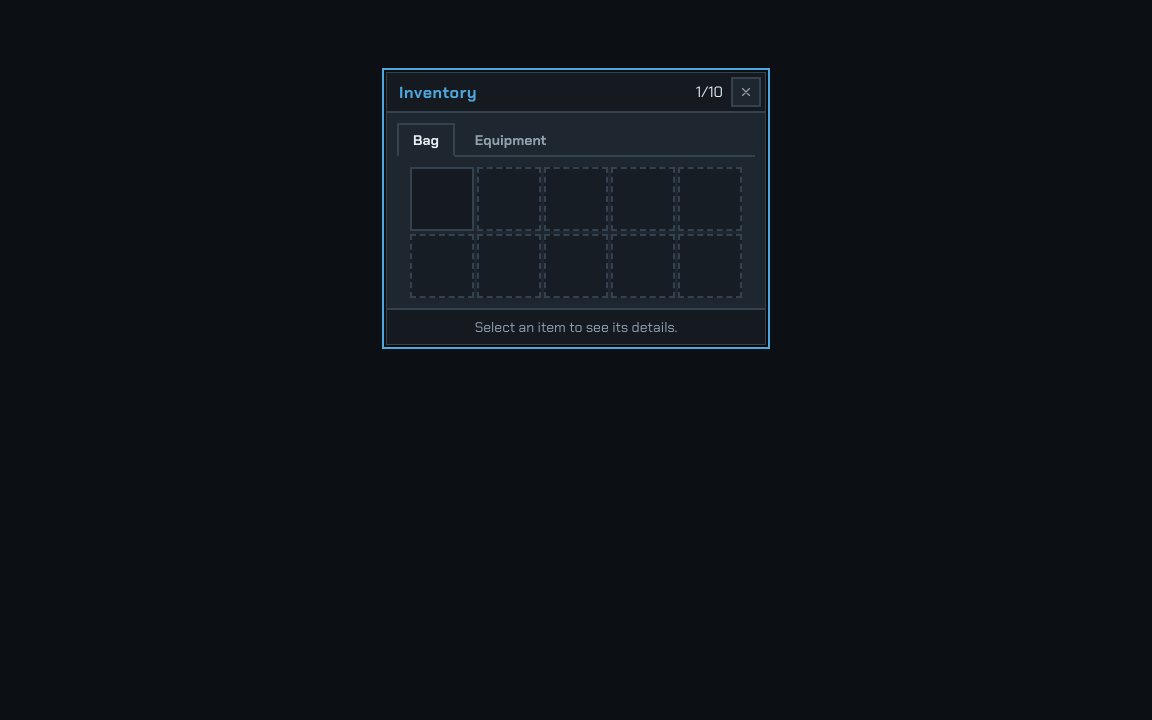
Test: InventoryPanel › asks before dropping the only one, and takes no for an answer
The image size is (1152, 720).
Step 1. Click the button named "Axe" → (442, 199), box [410,167,474,231]
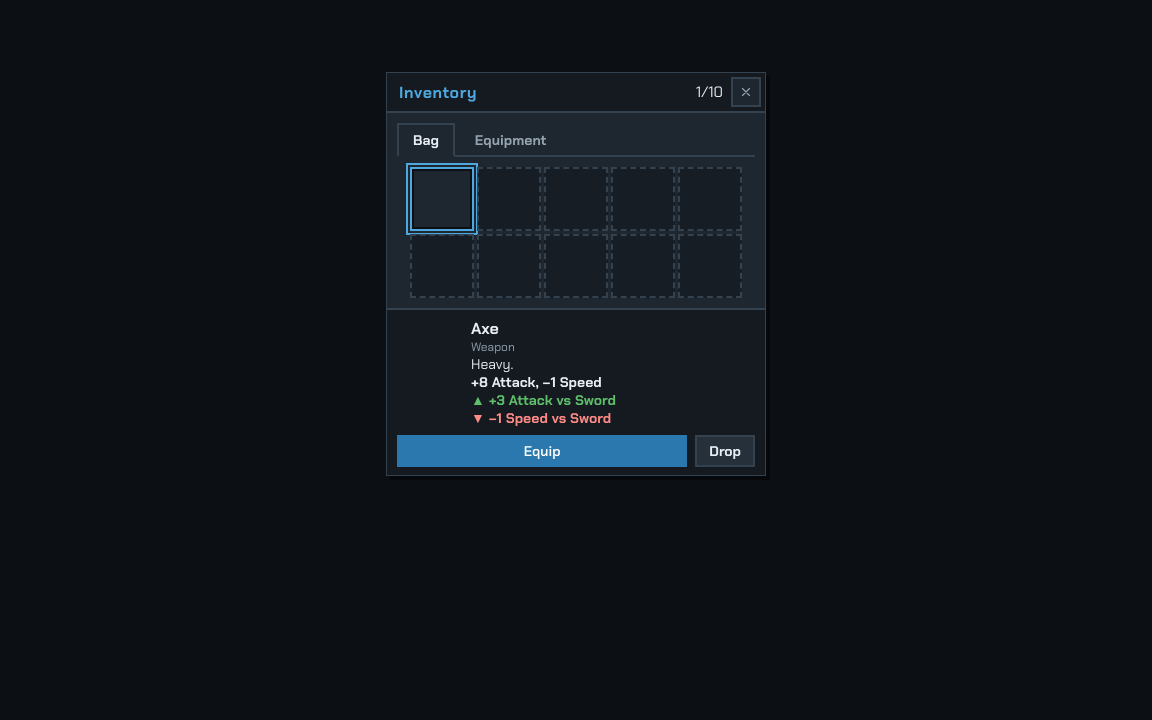
Step 2. Click the button "Drop" → (725, 451), box [695,435,755,467]
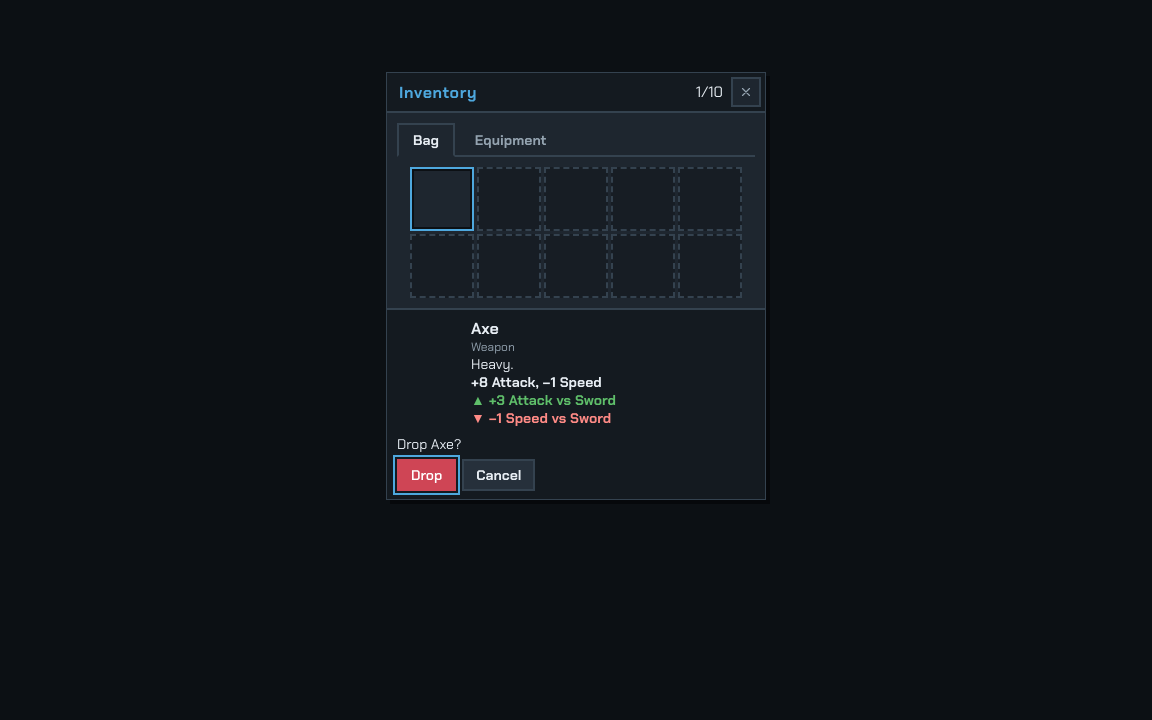
Expected: the text "Drop Axe?" is shown, [397,435,461,453]
Step 3. Click the button "Cancel" → (499, 475), box [462,459,536,491]
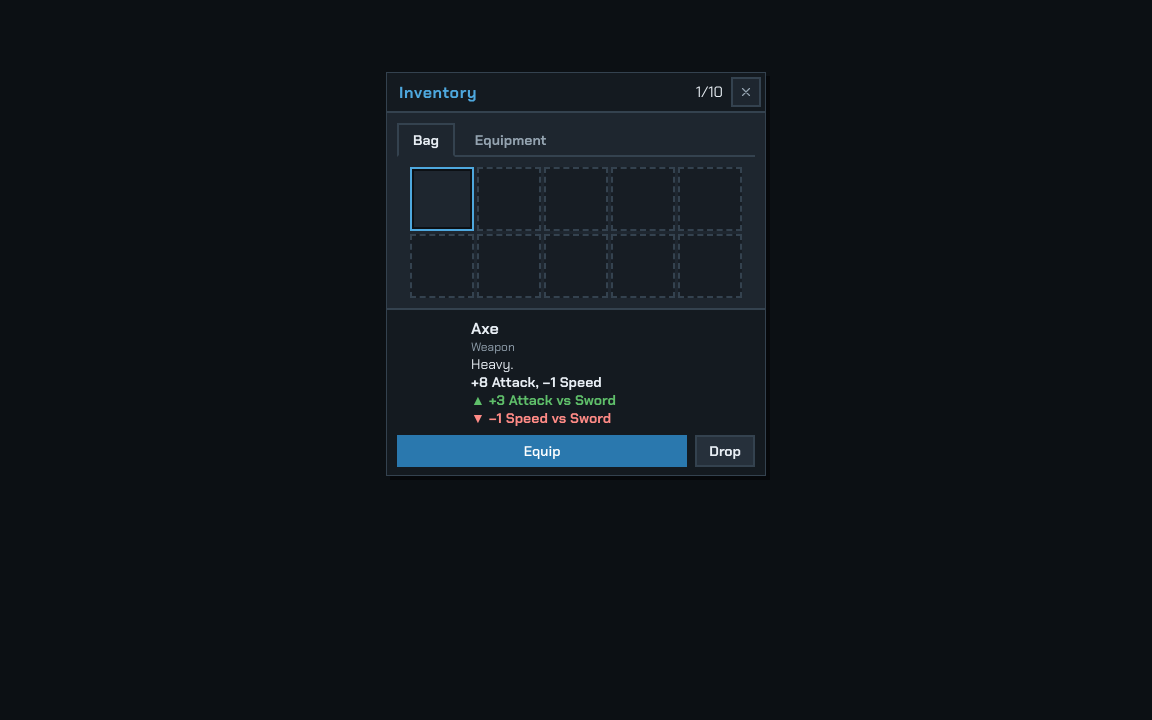
Expected: the button "Equip" is shown, [397,435,687,467]
